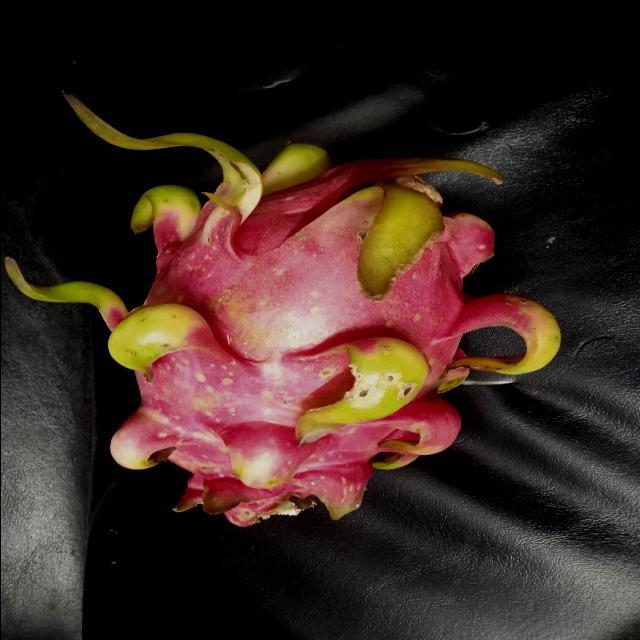do: (0, 90, 560, 534)
